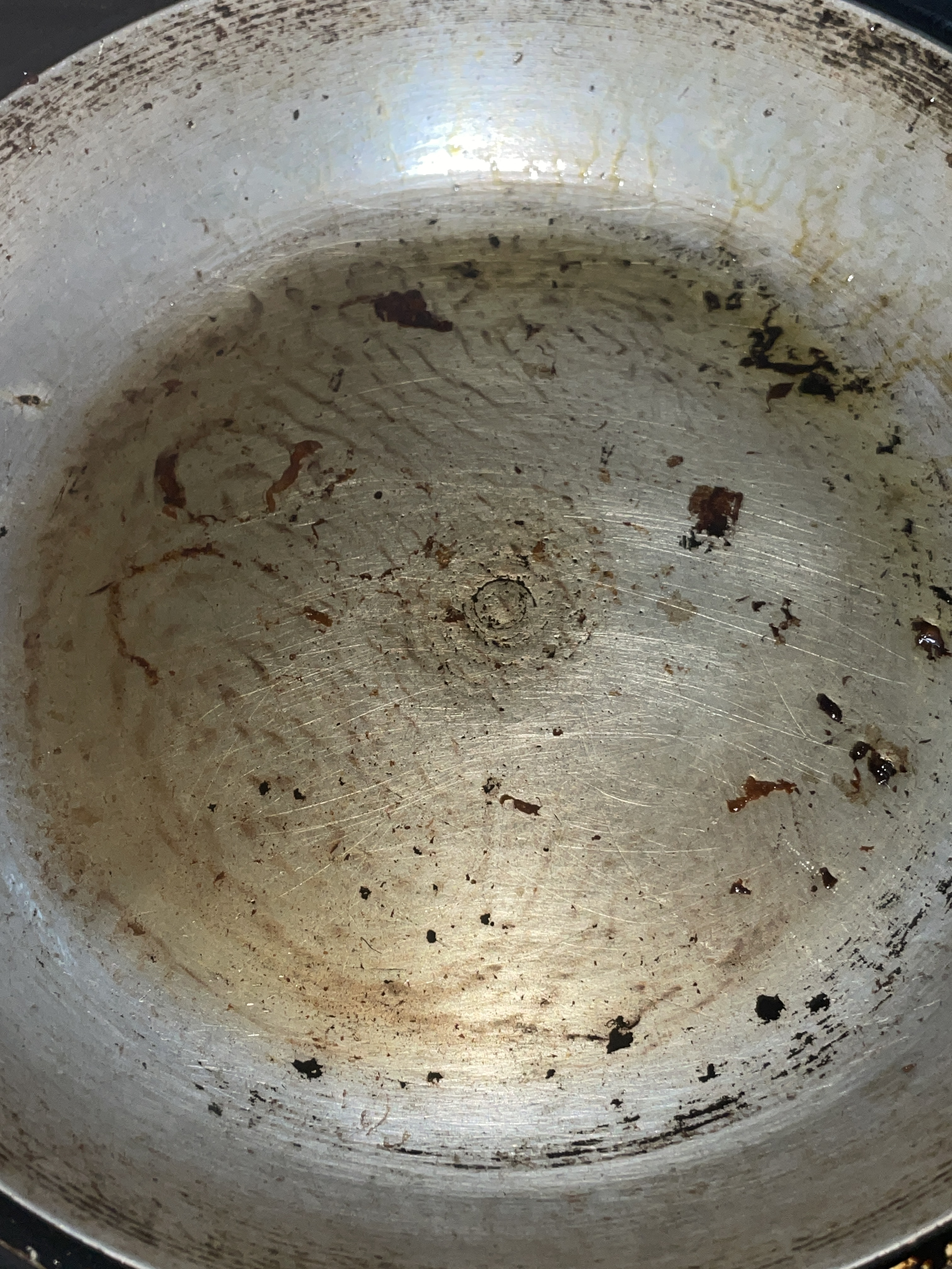reusable: (19, 227, 952, 1083)
